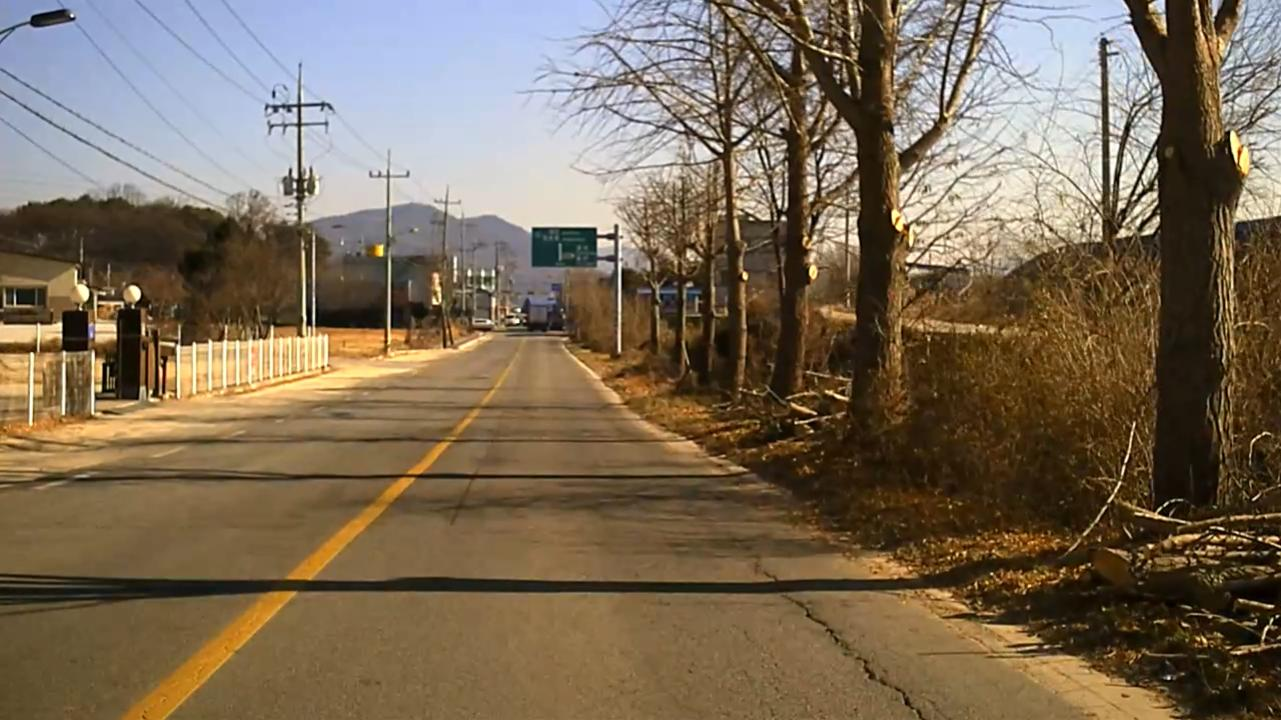banner: (754, 556, 840, 648), (845, 642, 916, 720)
